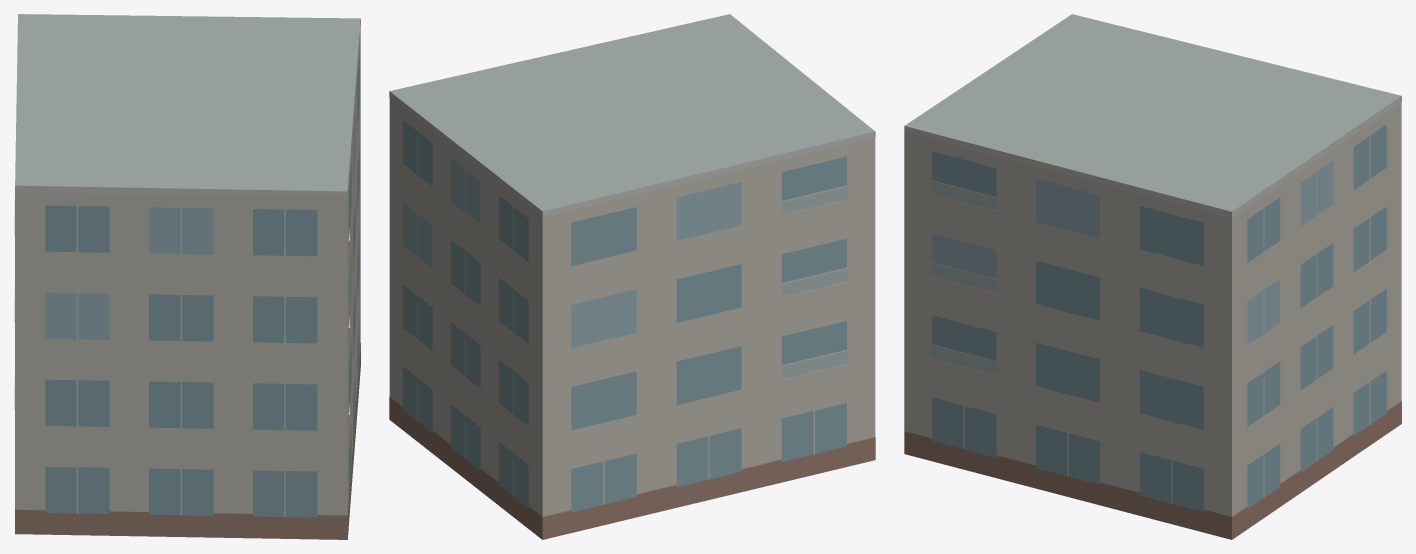
Rendered from survey-upis-32748027.glb.
3 renders of one model, left to right at view 1: azimuth 30°, elevation 25°; view 2: azimuth 150°, elevation 25°; view 3: azimuth 270°, elevation 25°, orthographic. The views are drawn at different scales.
Visible parts, largest first — view 1: survey-upis-32748027.tmp; view 2: survey-upis-32748027.tmp; view 3: survey-upis-32748027.tmp.
Boxes of the visible parts, x1,y1,x2,y2 form: survey-upis-32748027.tmp: [14, 14, 360, 539]; survey-upis-32748027.tmp: [389, 14, 875, 539]; survey-upis-32748027.tmp: [904, 14, 1401, 539].
Size of the model in its own units: 16.56 by 12.8 by 17.6.
